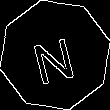N_N: (29, 26, 81, 84)
